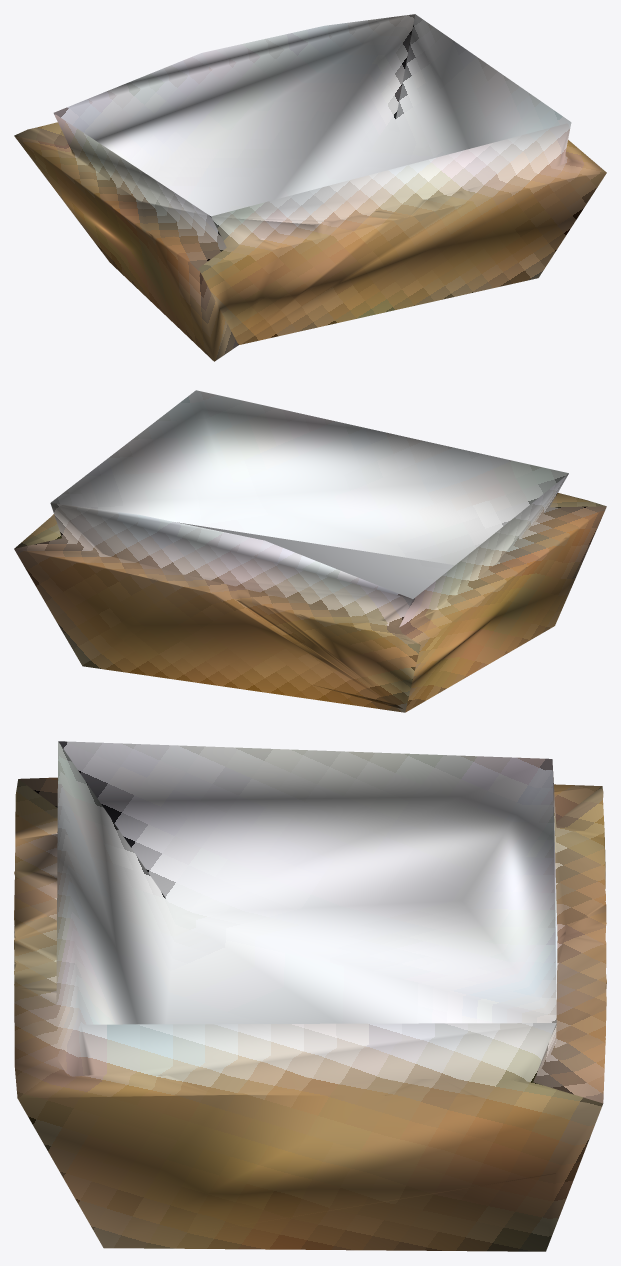
The model's file is Threshold_Bamboo_Ceramic_Soap_Dish-low.glb.
The picture shows the model from 3 angles, top to bottom: view 1: azimuth 30°, elevation 25°; view 2: azimuth 150°, elevation 25°; view 3: azimuth 270°, elevation 25°; orthographic projection. The views are drawn at different scales.
Parts seen in each view (by area): view 1: Threshold_Bamboo_Ceramic_Soap_Dish; view 2: Threshold_Bamboo_Ceramic_Soap_Dish; view 3: Threshold_Bamboo_Ceramic_Soap_Dish.
Boxes of the visible parts, x1,y1,x2,y2 form: Threshold_Bamboo_Ceramic_Soap_Dish: (14,14,606,361); Threshold_Bamboo_Ceramic_Soap_Dish: (14,390,606,712); Threshold_Bamboo_Ceramic_Soap_Dish: (14,741,606,1251).
Size of the model in its own units: 0.1244 by 0.0498 by 0.098.
1 material, 1 textured.
